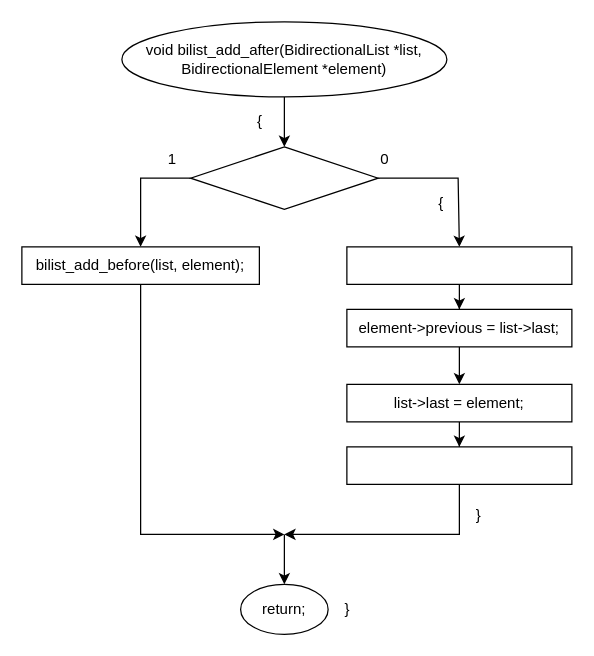
The diagram is 594 pixels wide and 656 high, and some of its shapes have lost their labels. Each missing label, with the centre of its shape:
"if (list->last == nullptr)" goes at point 283,177.
"list->last->next = element;" goes at point 459,265.
"list->size++;" goes at point 459,465.
